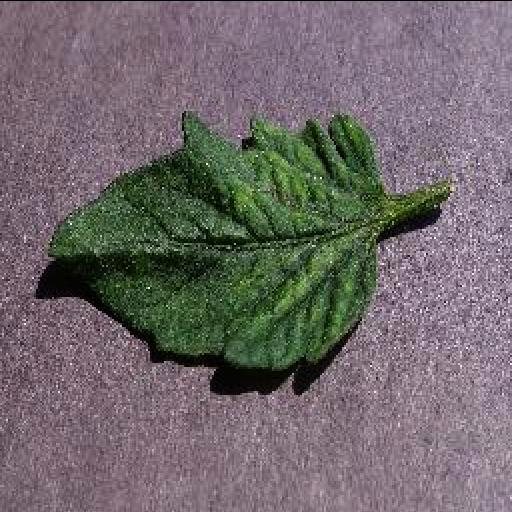disease_tomato: (43, 110, 385, 370)
